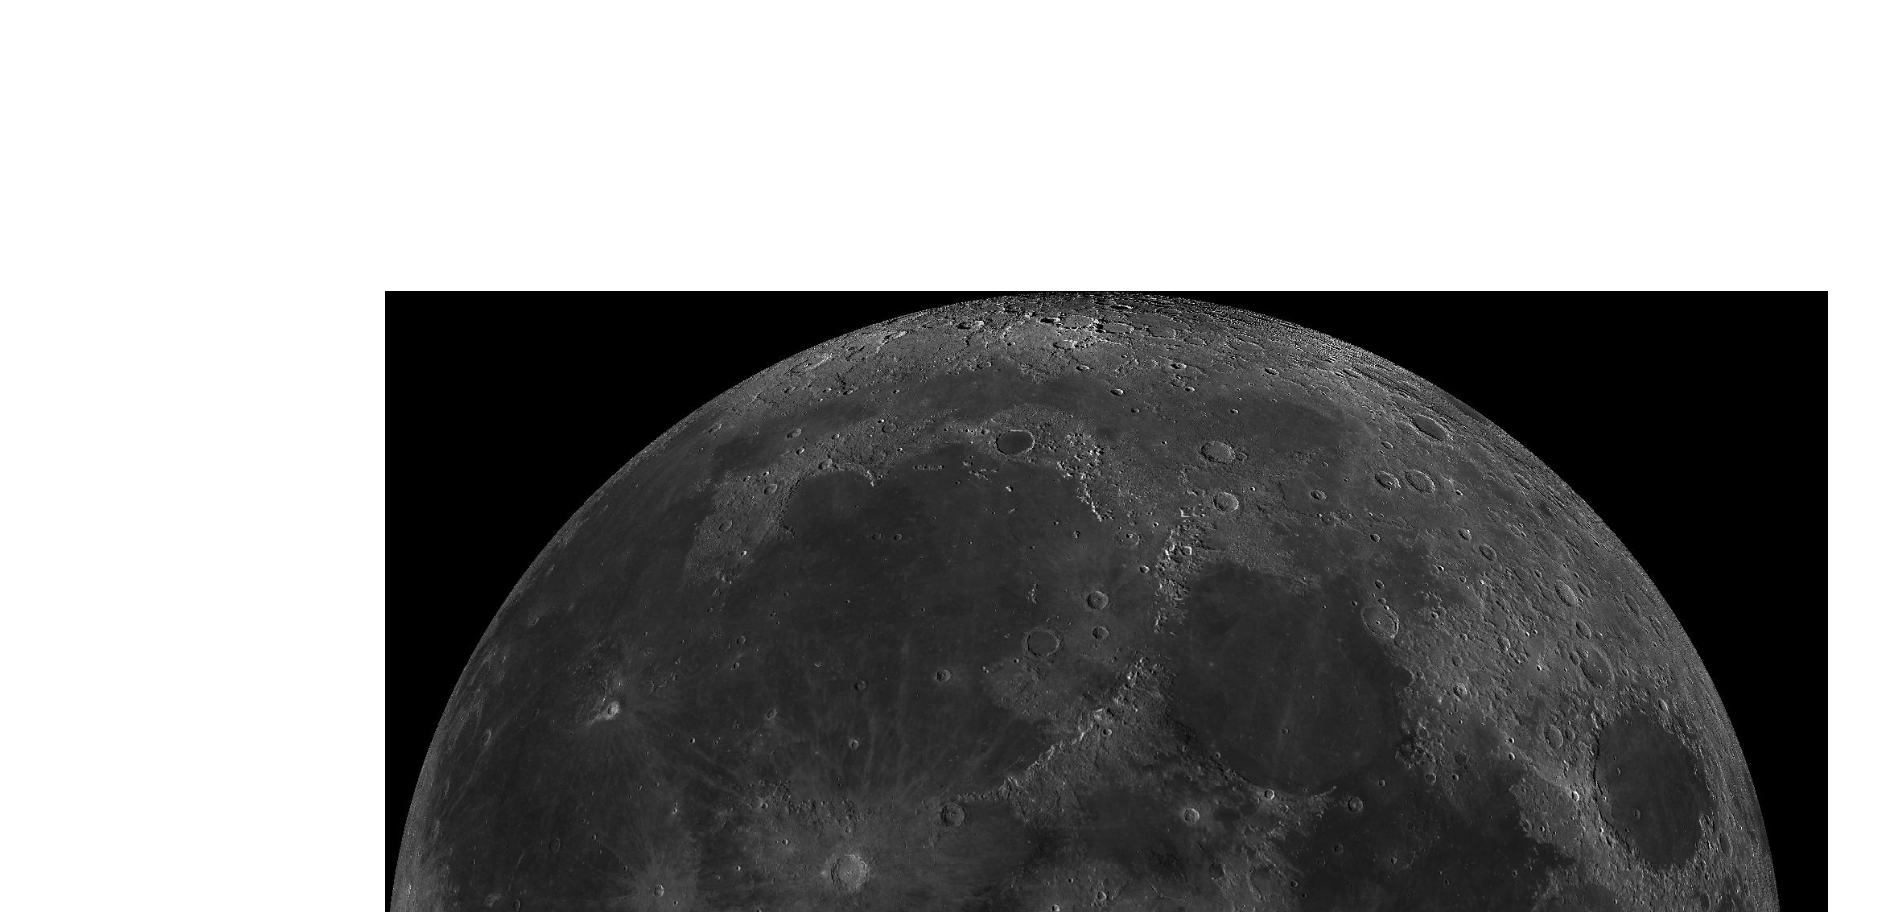crater: (1161, 552, 1427, 824), (1573, 696, 1724, 899), (785, 825, 910, 904), (984, 424, 1047, 470), (1399, 404, 1457, 451), (628, 866, 696, 907), (1355, 597, 1409, 648), (1185, 430, 1251, 470), (1014, 621, 1069, 664), (932, 797, 976, 836), (590, 692, 632, 732), (1364, 463, 1403, 503), (1169, 798, 1210, 833), (1077, 582, 1115, 616), (1545, 576, 1579, 614), (1111, 526, 1147, 554), (1621, 591, 1642, 626), (848, 670, 874, 697), (932, 663, 956, 691), (1475, 541, 1500, 565), (545, 831, 567, 856), (761, 707, 785, 725), (716, 518, 738, 536), (1329, 840, 1349, 858), (889, 526, 907, 546), (761, 482, 781, 499), (880, 422, 899, 435), (732, 634, 746, 646), (685, 735, 697, 746), (781, 588, 791, 598), (918, 606, 928, 614), (843, 597, 852, 606)
